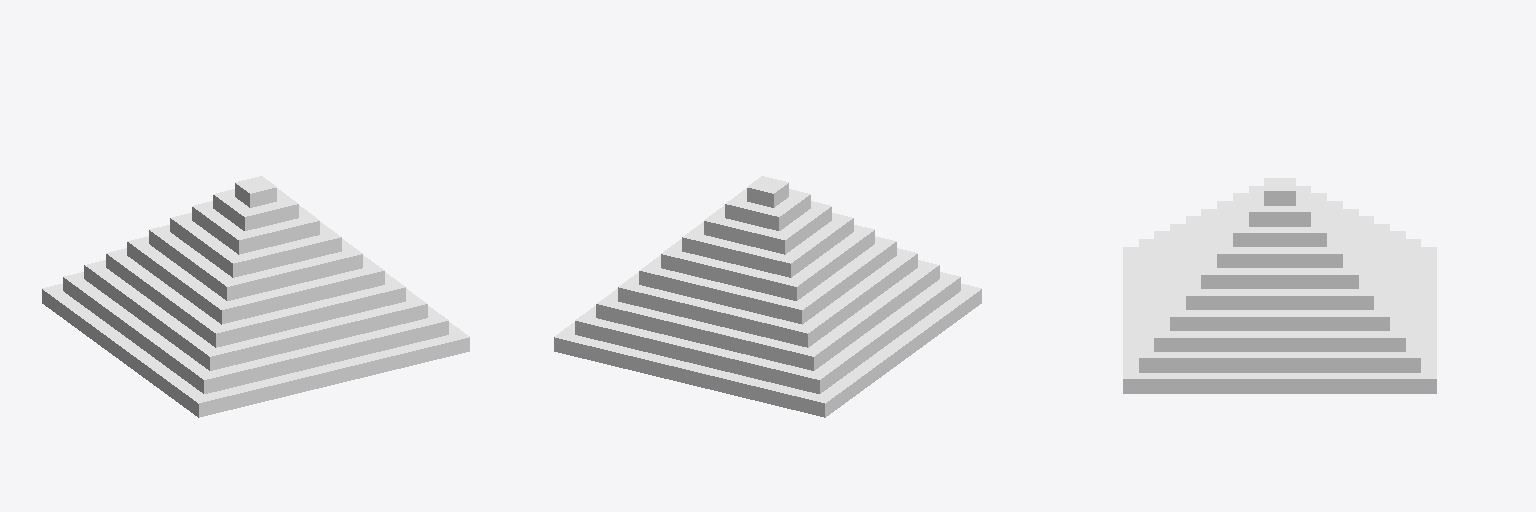
The model's file is ci(single).obj.
The picture shows the model from 3 angles: view 1: azimuth 30°, elevation 25°; view 2: azimuth 150°, elevation 25°; view 3: azimuth 270°, elevation 25°; orthographic projection.
Parts seen in each view (by area): view 1: ci(single); view 2: ci(single); view 3: ci(single).
Part boxes in pixels (x1,y1,x2,y2): ci(single): (42, 176, 469, 417); ci(single): (554, 176, 981, 417); ci(single): (1123, 178, 1436, 393).
Size of the model in its own units: 20 by 10 by 20.